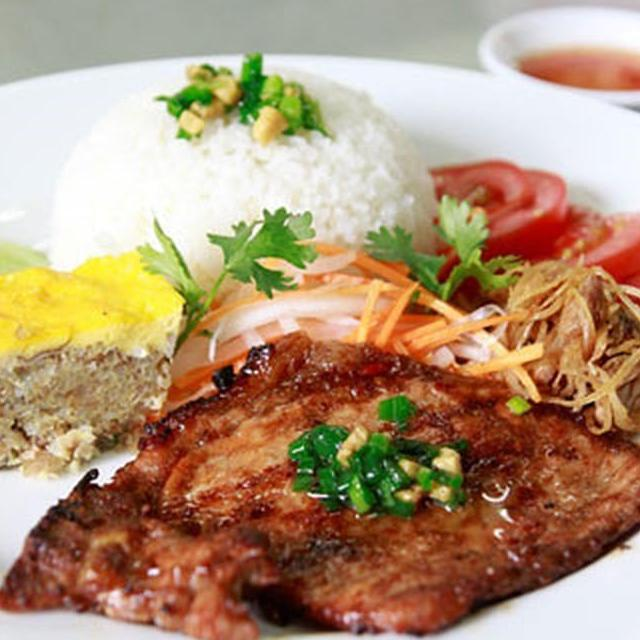bi: (479, 247, 640, 451)
cha: (0, 243, 189, 491)
com: (40, 49, 449, 316)
com suon bi cha: (0, 30, 640, 640)
dua chua: (149, 236, 514, 406)
suon: (0, 326, 640, 640)
